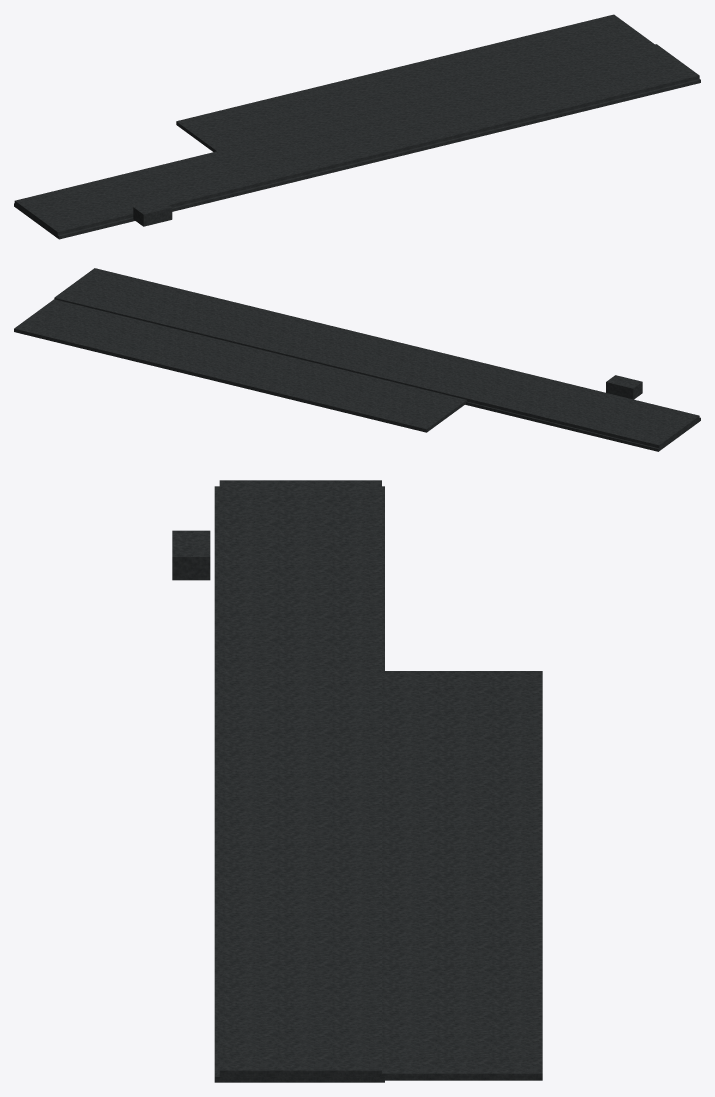
The model's file is PROJECT_Z_Railway_Turnout_COLLISION_HELPERS.glb.
3 views of the same model, one above another, from view 1: azimuth 30°, elevation 25°; view 2: azimuth 150°, elevation 25°; view 3: azimuth 270°, elevation 25° (orthographic). The views are drawn at different scales.
Visible parts, largest first — view 1: UCX_Railway_Sleeper_Bed_02, UCX_Railway_Branch_Bed_04, UCX_Railway_Ballast_Body_01, UCX_Railway_Actuator_Box_03; view 2: UCX_Railway_Sleeper_Bed_02, UCX_Railway_Branch_Bed_04, UCX_Railway_Ballast_Body_01, UCX_Railway_Actuator_Box_03; view 3: UCX_Railway_Sleeper_Bed_02, UCX_Railway_Branch_Bed_04, UCX_Railway_Ballast_Body_01, UCX_Railway_Actuator_Box_03.
Boxes of the visible parts, <box> form: UCX_Railway_Sleeper_Bed_02: <box>14,44,699,235</box>; UCX_Railway_Branch_Bed_04: <box>176,14,654,151</box>; UCX_Railway_Ballast_Body_01: <box>14,79,700,239</box>; UCX_Railway_Actuator_Box_03: <box>133,200,172,226</box>; UCX_Railway_Sleeper_Bed_02: <box>54,268,699,448</box>; UCX_Railway_Branch_Bed_04: <box>14,299,466,432</box>; UCX_Railway_Ballast_Body_01: <box>465,401,700,451</box>; UCX_Railway_Actuator_Box_03: <box>606,375,642,399</box>; UCX_Railway_Sleeper_Bed_02: <box>219,480,381,1076</box>; UCX_Railway_Branch_Bed_04: <box>325,671,542,1080</box>; UCX_Railway_Ballast_Body_01: <box>214,486,384,1082</box>; UCX_Railway_Actuator_Box_03: <box>172,530,210,580</box>.
Bounding box in the file's own units: 28 × 0.64 × 7.42.
Materials: 1 (1 with a texture image).
